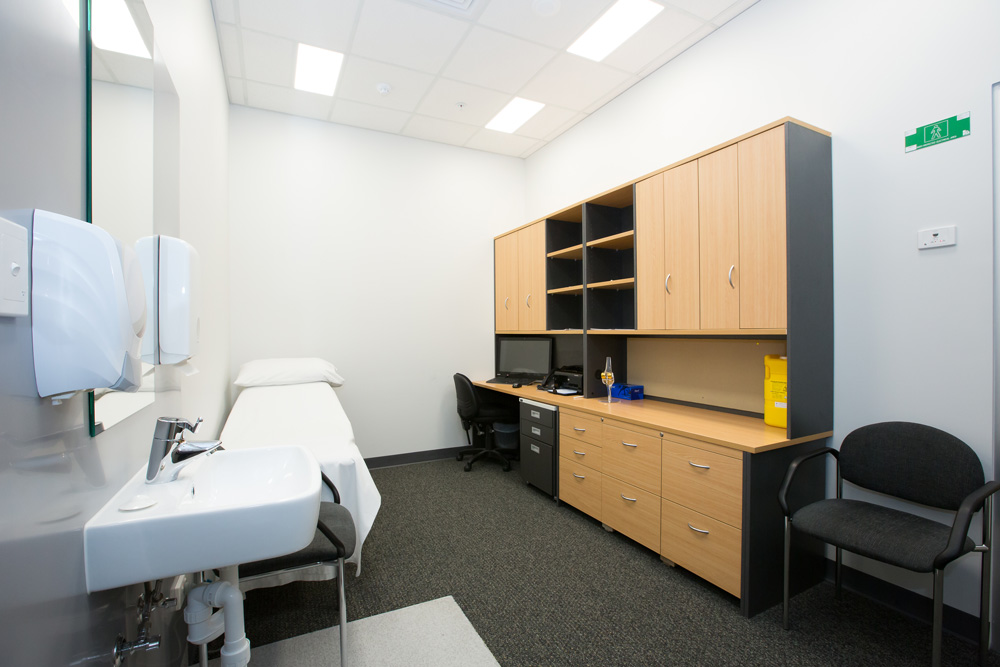cabinet: (491, 119, 832, 333)
chair: (776, 421, 1000, 667), (453, 373, 519, 471)
computer: (497, 337, 553, 375)
counter: (459, 376, 842, 613)
countertop: (465, 379, 829, 447)
dispenser: (43, 213, 140, 407), (156, 226, 215, 376)
exam_table: (227, 344, 359, 558)
faucet: (146, 414, 225, 488)
handle: (724, 265, 735, 291), (661, 273, 672, 297), (522, 295, 533, 312), (501, 297, 512, 314), (688, 525, 708, 534), (618, 494, 638, 502), (688, 463, 708, 469), (621, 442, 637, 448), (572, 427, 587, 433), (572, 474, 585, 479), (573, 451, 586, 456)
light_switch: (1, 217, 31, 325)
mouse: (512, 383, 522, 388)
sink: (85, 452, 324, 597)
